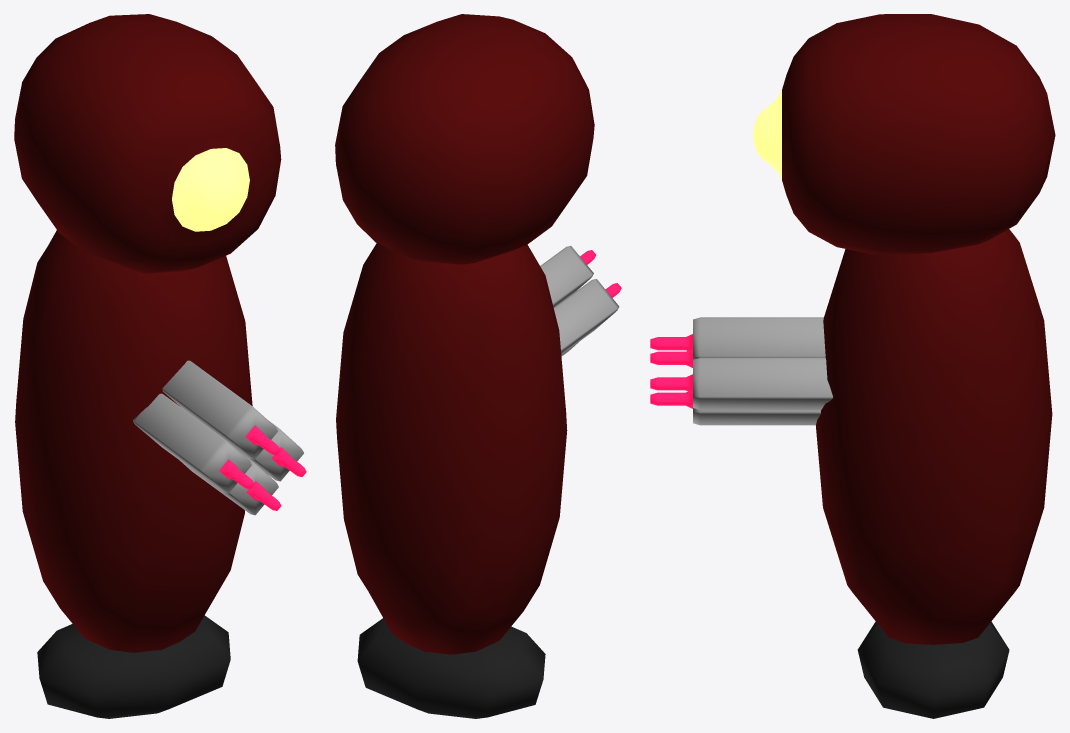
Rendered from MODELBOTS.fbx.
3 renders of one model, left to right at view 1: azimuth 30°, elevation 25°; view 2: azimuth 150°, elevation 25°; view 3: azimuth 270°, elevation 25°, orthographic. The views are drawn at different scales.
Parts seen in each view (by area): view 1: Cube.034; view 2: Cube.034; view 3: Cube.034.
Boxes of the visible parts, x1=… form: Cube.034: x1=14, y1=14, x2=306, y2=718; Cube.034: x1=335, y1=14, x2=621, y2=718; Cube.034: x1=650, y1=14, x2=1055, y2=718.
Size of the model in its own units: 126 by 395 by 214.
